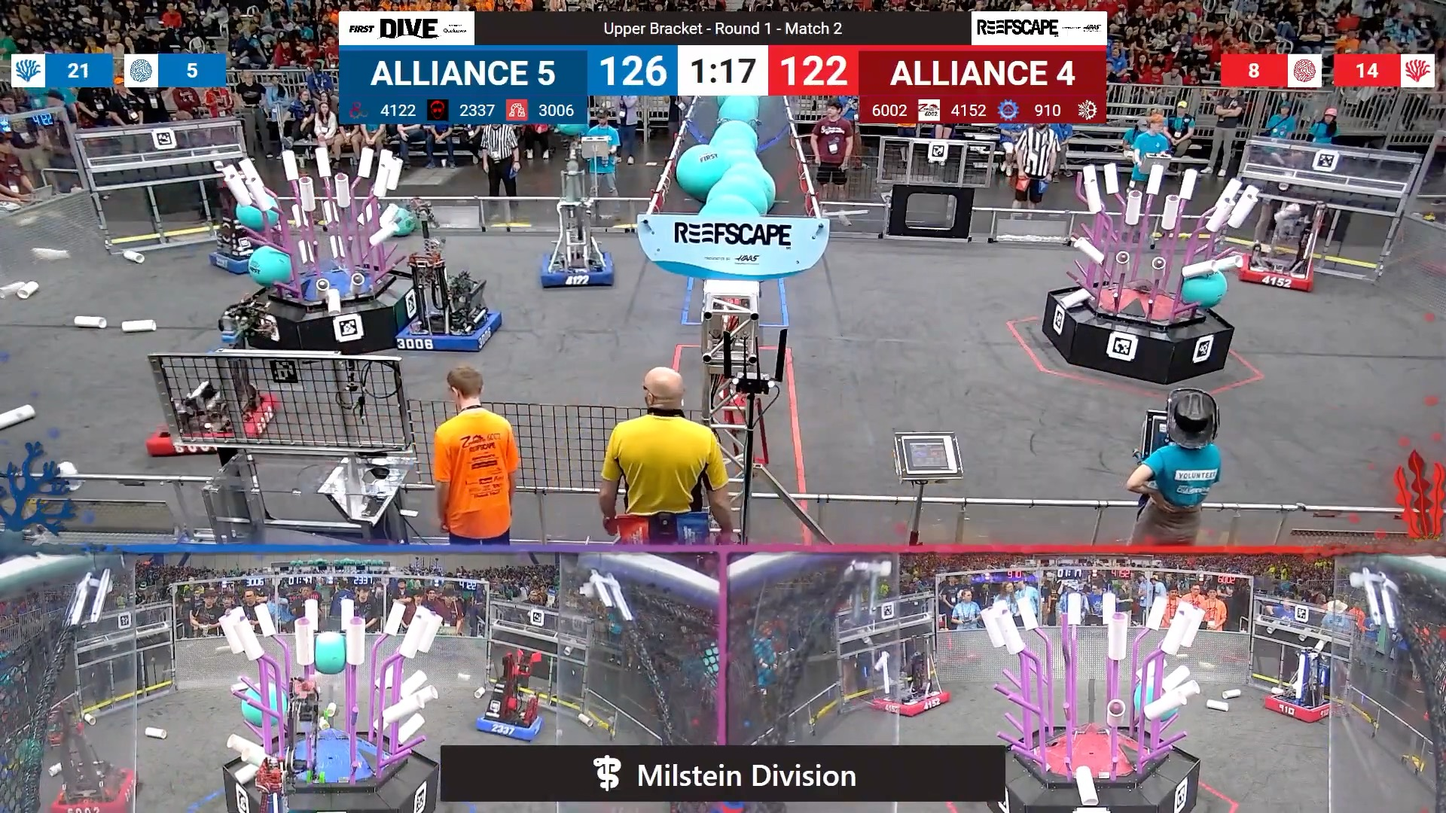bumpers: (142, 391, 275, 462), (390, 304, 507, 356), (47, 760, 140, 812), (1227, 252, 1329, 296), (535, 249, 619, 291), (468, 705, 553, 744), (867, 684, 955, 717), (1258, 692, 1341, 725), (201, 245, 270, 278)
